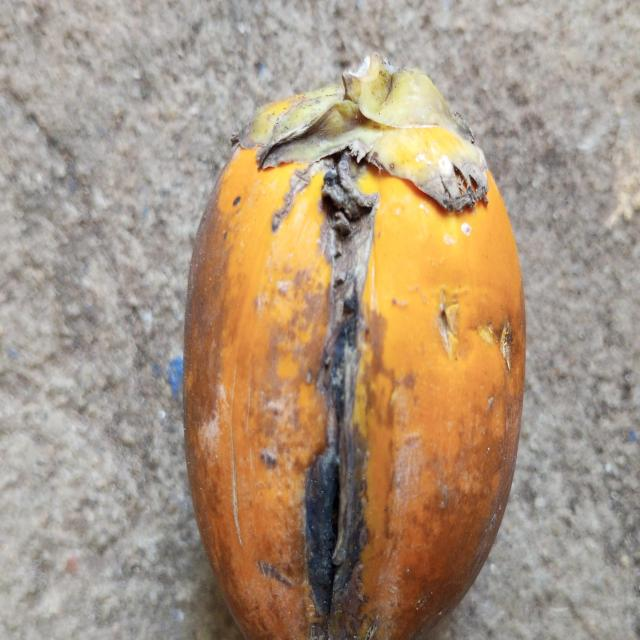damaged: (184, 55, 525, 640)
